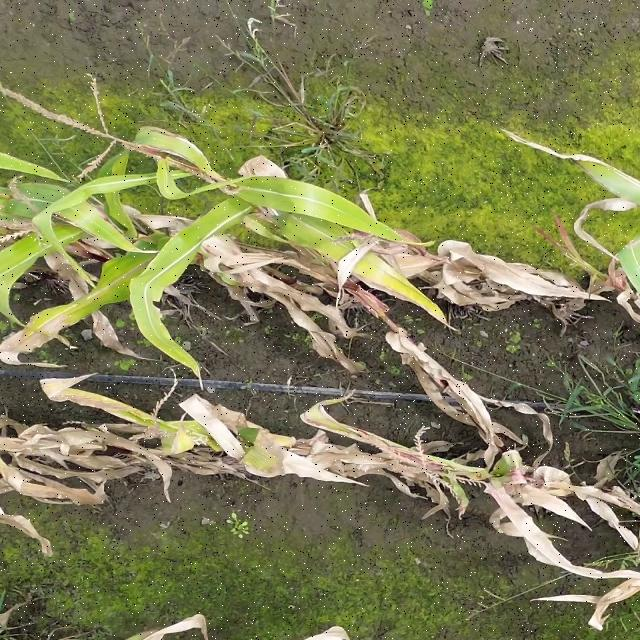northern-leaf-blight: (102, 256, 144, 294)
